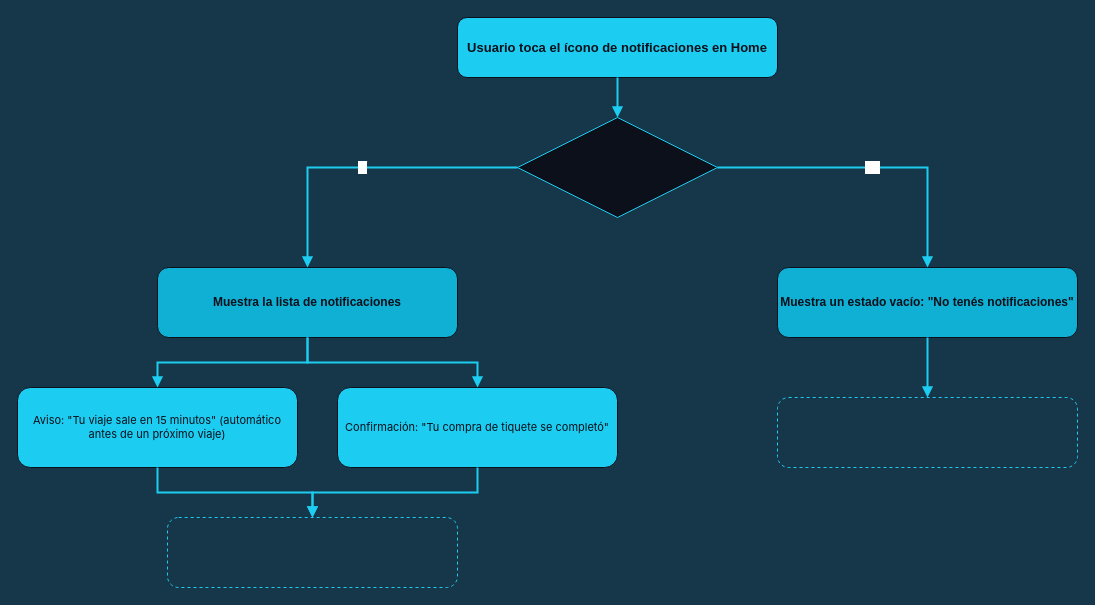
Some shapes in this 1095 by 605 pixel diagram are drawn without their labels. The box of each missing label's shape, as (x1, y1, x2, y2) in pixels:
Toca "Regresar al Home" → Pantalla Home → ver diagrama Home: (776, 396, 1078, 468)
Toca la notificación → Pantalla Tiquetes → ver diagrama Tiquetes: (166, 516, 458, 588)
¿Hay Notificaciones?: (516, 116, 718, 218)
